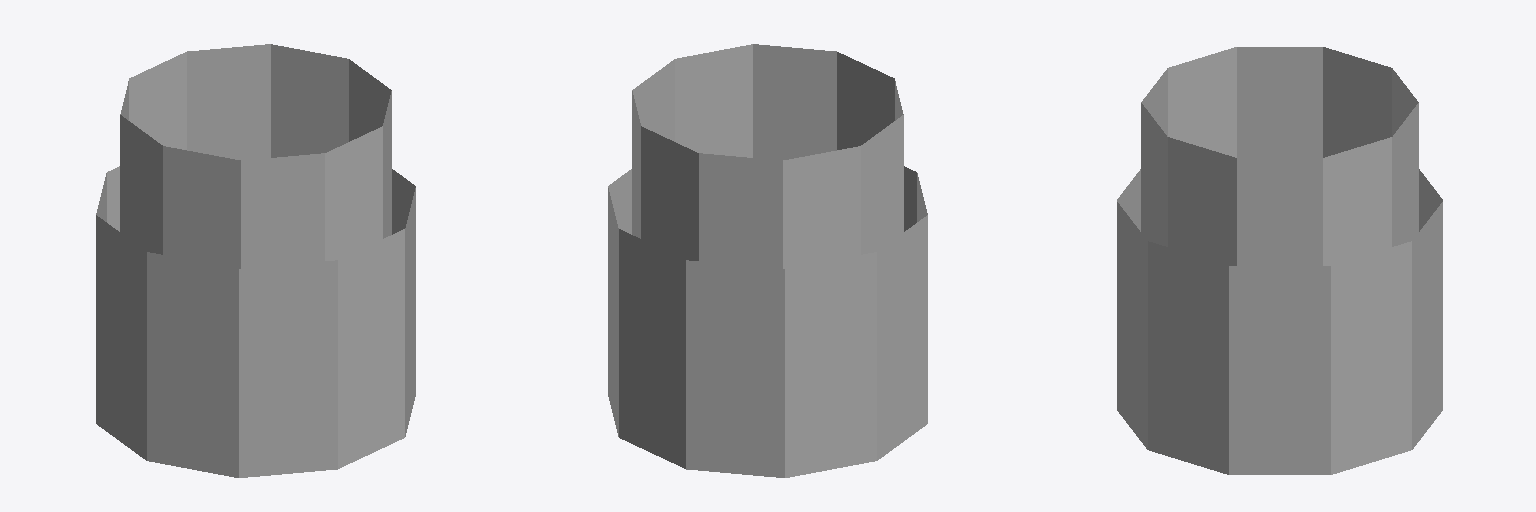
File: Hydrant Pipe.obj
3 renders of one model, left to right at view 1: azimuth 30°, elevation 25°; view 2: azimuth 150°, elevation 25°; view 3: azimuth 270°, elevation 25°, orthographic.
Visible parts, largest first — view 1: Underground_Pipe_Cylinder.001; view 2: Underground_Pipe_Cylinder.001; view 3: Underground_Pipe_Cylinder.001.
Part boxes in pixels (left/top/right/bottom): Underground_Pipe_Cylinder.001: left=96, top=44, right=415, bottom=477; Underground_Pipe_Cylinder.001: left=608, top=44, right=927, bottom=477; Underground_Pipe_Cylinder.001: left=1117, top=47, right=1442, bottom=474.
Size of the model in its own units: 1.9 by 2.07 by 2.